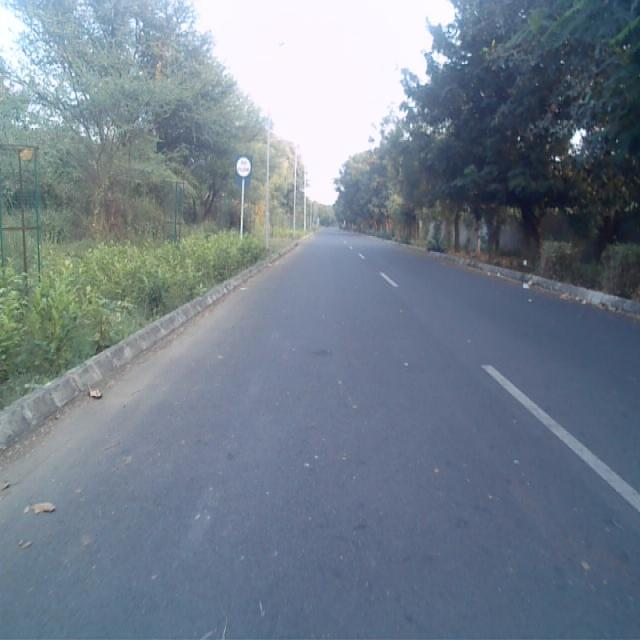lane: (0, 232, 640, 640)
